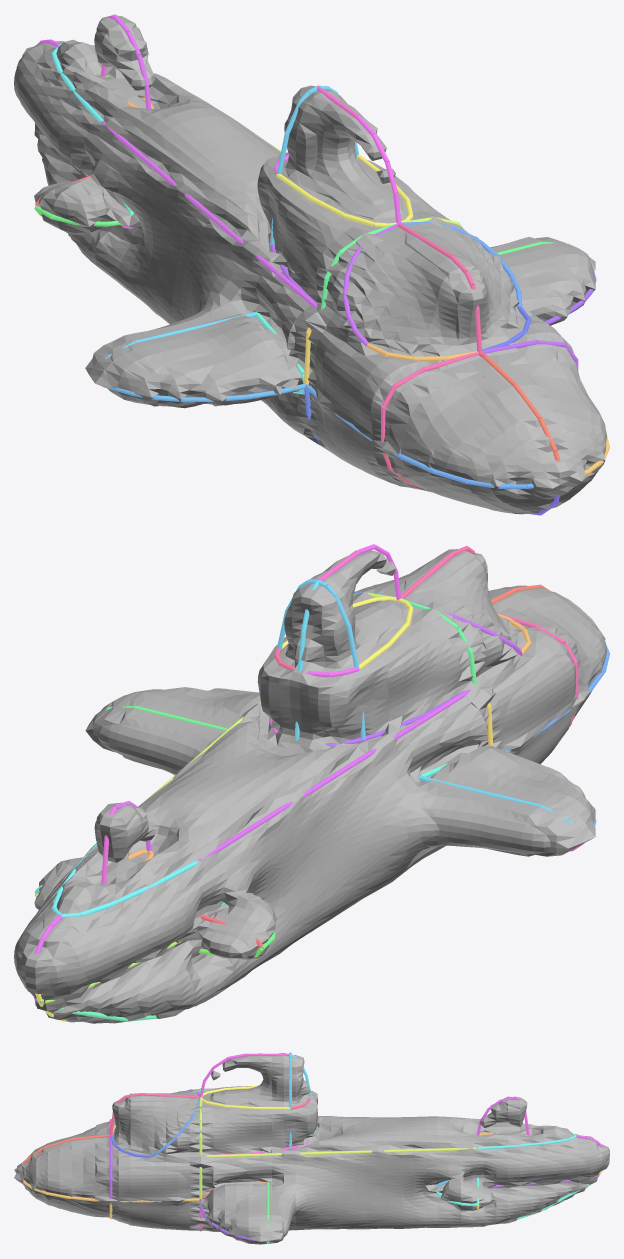
Rendered from scaffolds3d_submarine.gltf.
The picture shows the model from 3 angles, top to bottom: view 1: azimuth 30°, elevation 25°; view 2: azimuth 150°, elevation 25°; view 3: azimuth 270°, elevation 25°; orthographic projection. The views are drawn at different scales.
Bounding box in the file's own units: 0.468 × 0.2651 × 0.8702.
